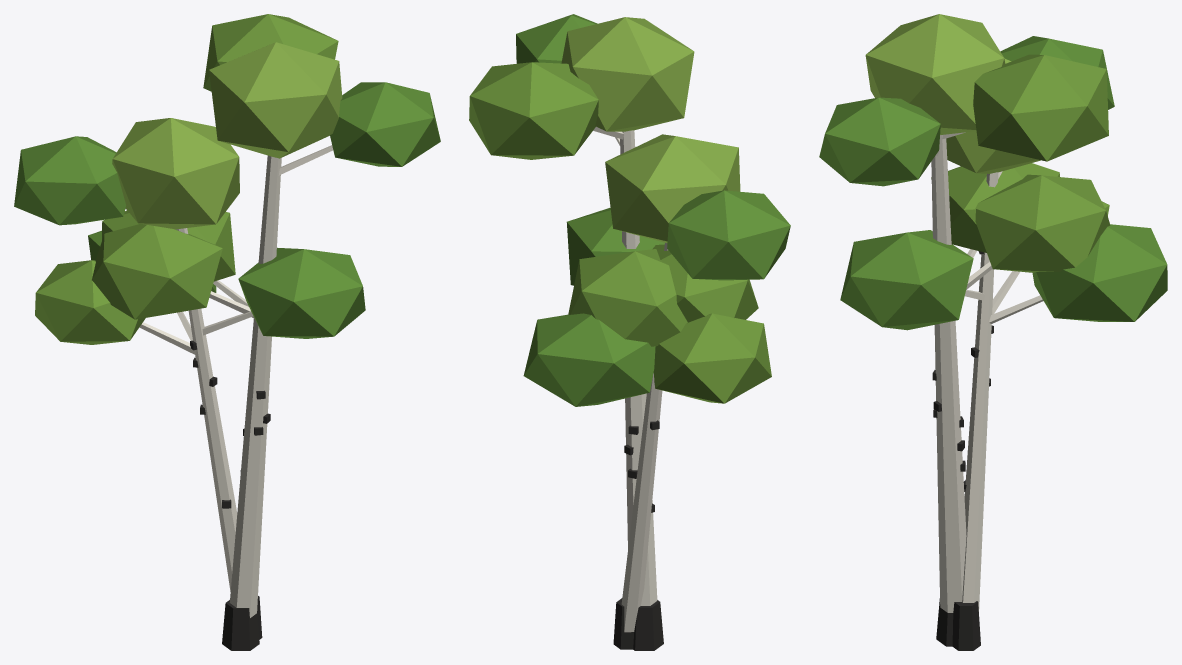
The model's file is forest_birch.glb.
3 renders of one model, left to right at view 1: azimuth 30°, elevation 25°; view 2: azimuth 150°, elevation 25°; view 3: azimuth 270°, elevation 25°, orthographic. The views are drawn at different scales.
Visible parts, largest first — view 1: forest_birch; view 2: forest_birch; view 3: forest_birch.
Boxes of the visible parts, x1,y1,x2,y2 form: forest_birch: (14,14,440,650); forest_birch: (469,14,790,650); forest_birch: (819,14,1167,650).
Size of the model in its own units: 4.28 by 7.3 by 3.6.
